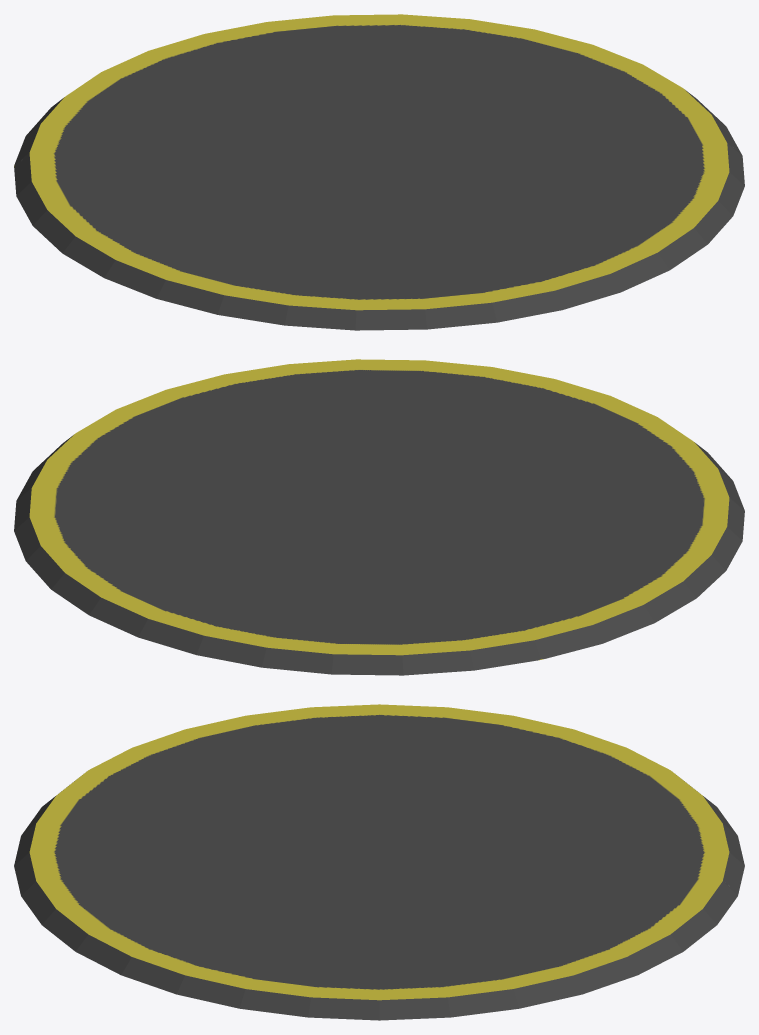
File: turn.fbx
3 renders of one model, top to bottom at view 1: azimuth 30°, elevation 25°; view 2: azimuth 150°, elevation 25°; view 3: azimuth 270°, elevation 25°, orthographic.
Visible parts, largest first — view 1: Cylinder; view 2: Cylinder; view 3: Cylinder.
Boxes of the visible parts, x1,y1,x2,y2 form: Cylinder: (14,14,744,330); Cylinder: (14,359,744,675); Cylinder: (14,704,744,1020).
Bounding box in the file's own units: 751 × 15.55 × 751.
1 material, 1 textured.
